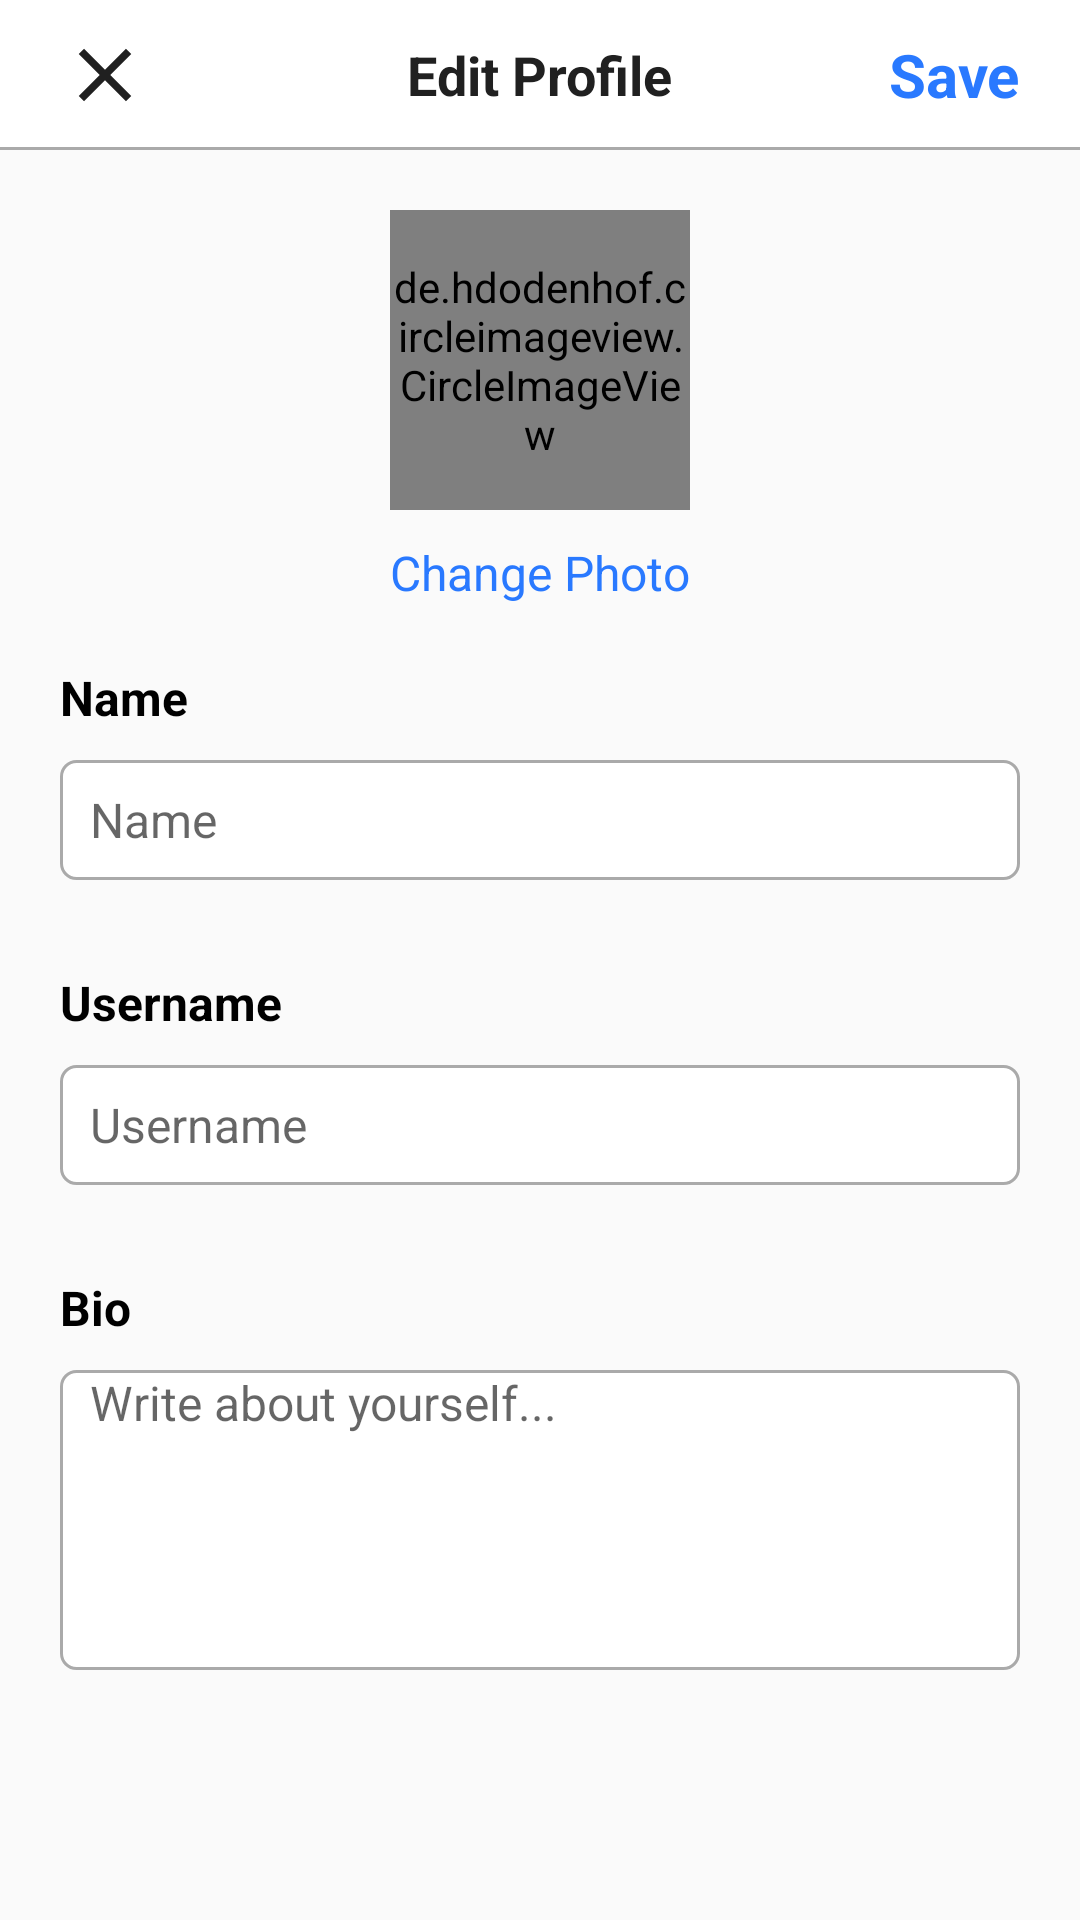

Where to tap for icons on this 1080px x 1920px app screen, as (x=x, y=y):
close: (x=105, y=75)
